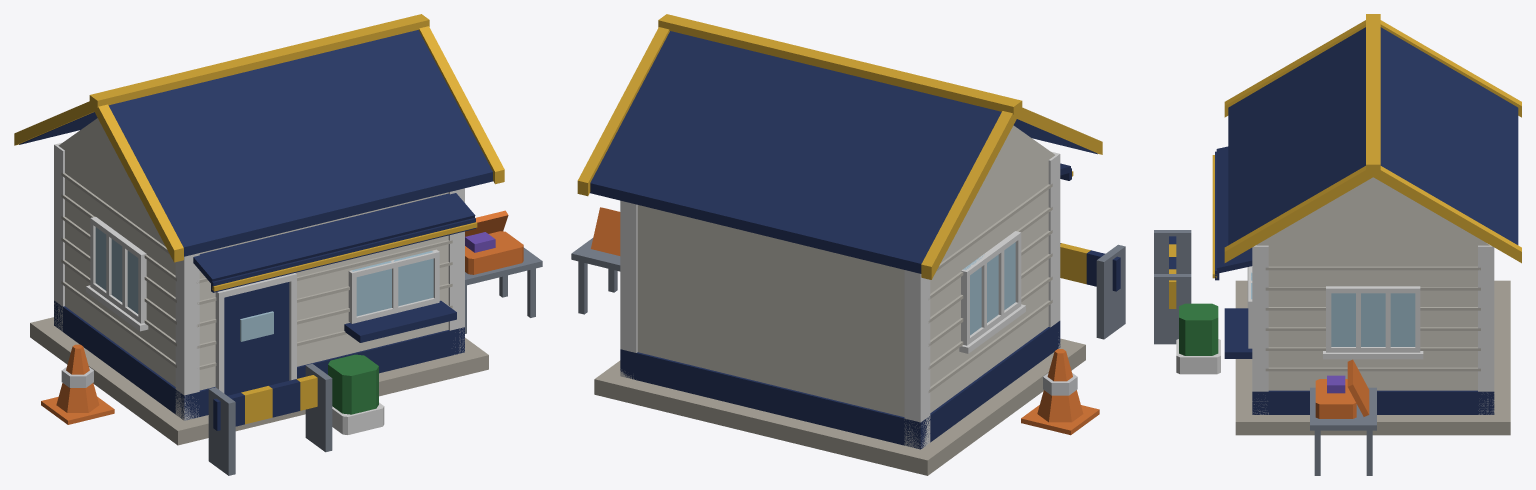
File: customs_hut.glb
The picture shows the model from 3 angles, left to right: view 1: azimuth 30°, elevation 25°; view 2: azimuth 150°, elevation 25°; view 3: azimuth 270°, elevation 25°; orthographic projection. The views are drawn at different scales.
Parts seen in each view (by area): view 1: customs_hut; view 2: customs_hut; view 3: customs_hut.
Part boxes in pixels (<box>): customs_hut: <box>14,14,542,475</box>; customs_hut: <box>571,14,1125,475</box>; customs_hut: <box>1154,14,1521,475</box>.
Size of the model in its own units: 6.74 by 4.09 by 4.95.
